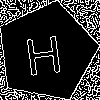H: (22, 27, 64, 76)
